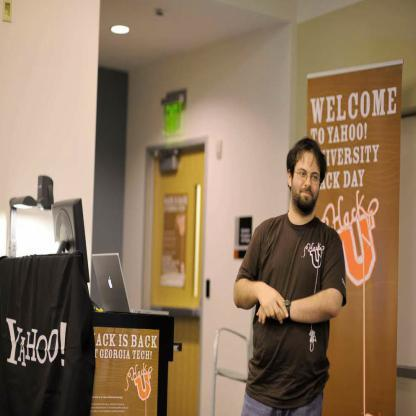door: (144, 146, 204, 416)
